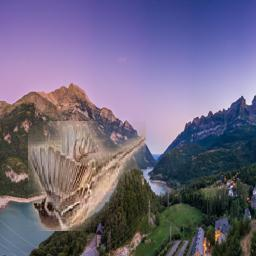Sparrow: (28, 121, 146, 231)
